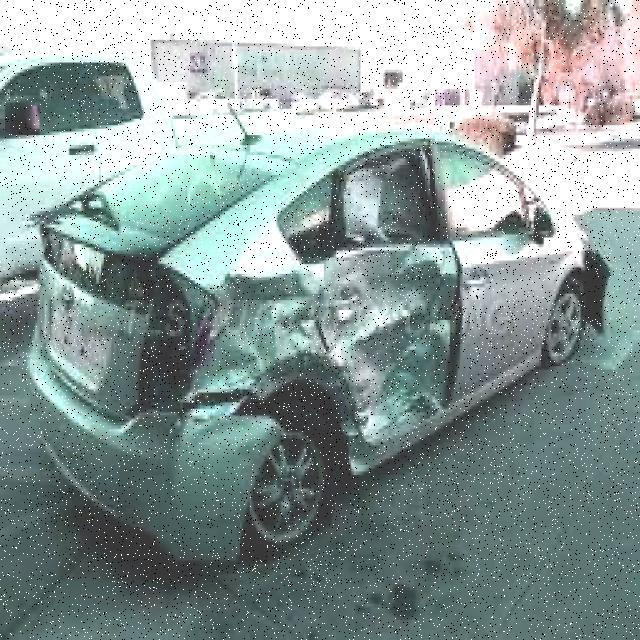car damage: (166, 236, 468, 479), (576, 234, 617, 343)
